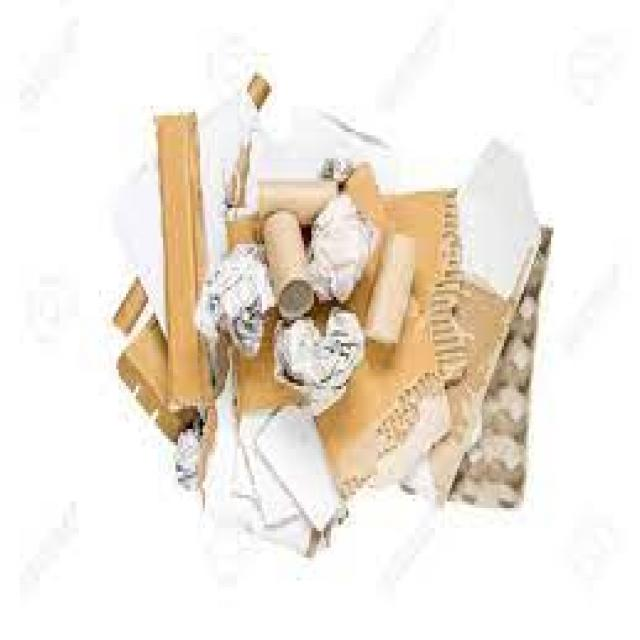Paper -Biodegradable-: (107, 76, 553, 599)
